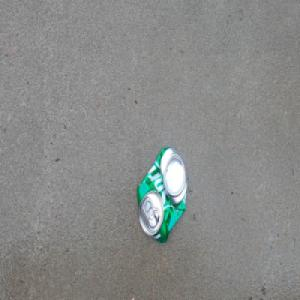SodaCan: (135, 144, 188, 245)
